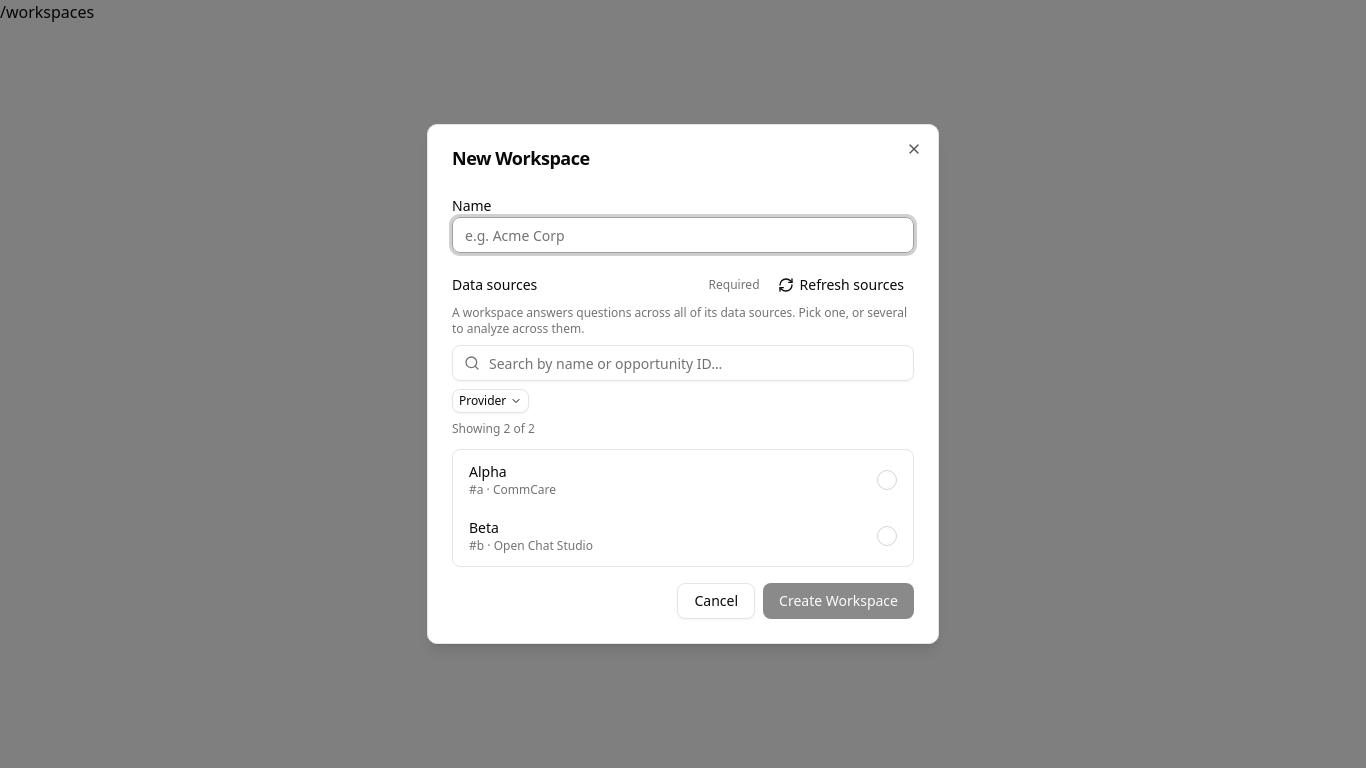
Test case: searches on Enter without creating a workspace
Check: the element with test id "create-sources-list" is shown, box [452, 449, 914, 567]
Type "Analysis" into the field labelled "Name" at (683, 235), box [452, 217, 914, 253]
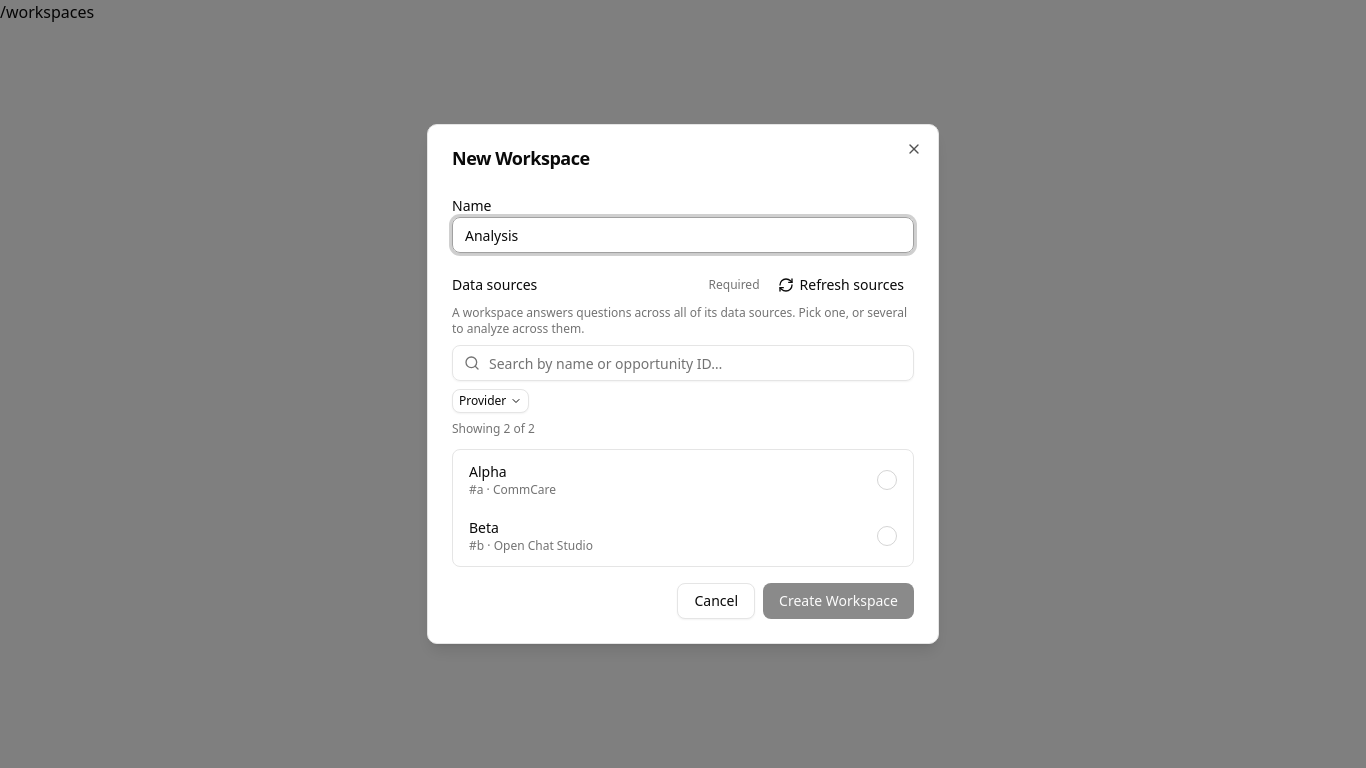
Type "Alpha" into the field with test id "search-filter-input" at (683, 363), box [452, 345, 914, 381]
Then press Enter
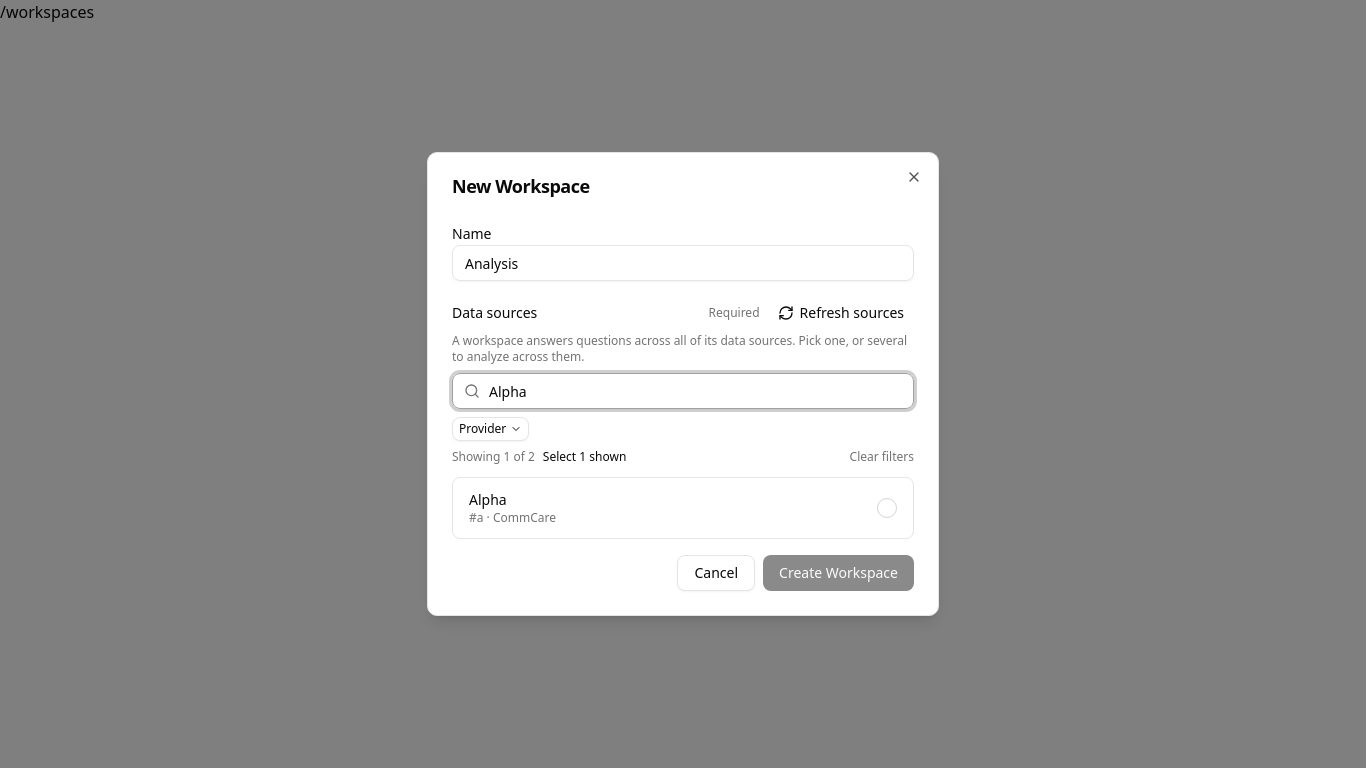
Check: the button with test id "create-source-tenant-a" is shown, box [457, 482, 909, 534]
Check: the button with test id "create-source-tenant-b" is gone
